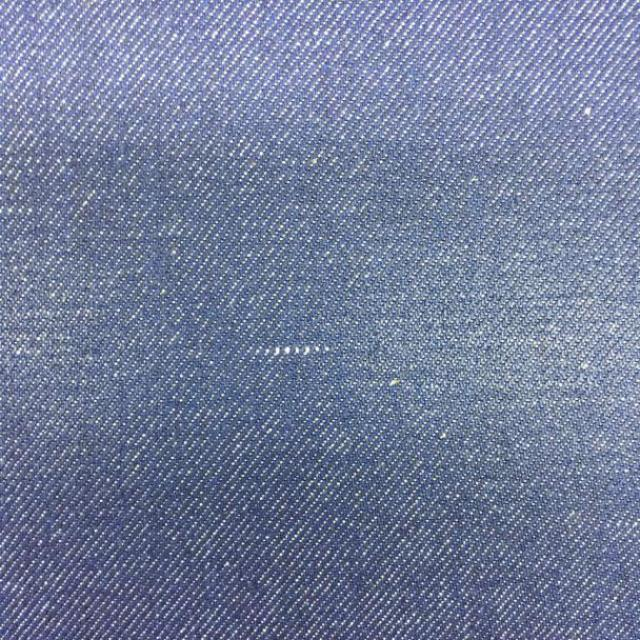Knot: (255, 345, 332, 357)
